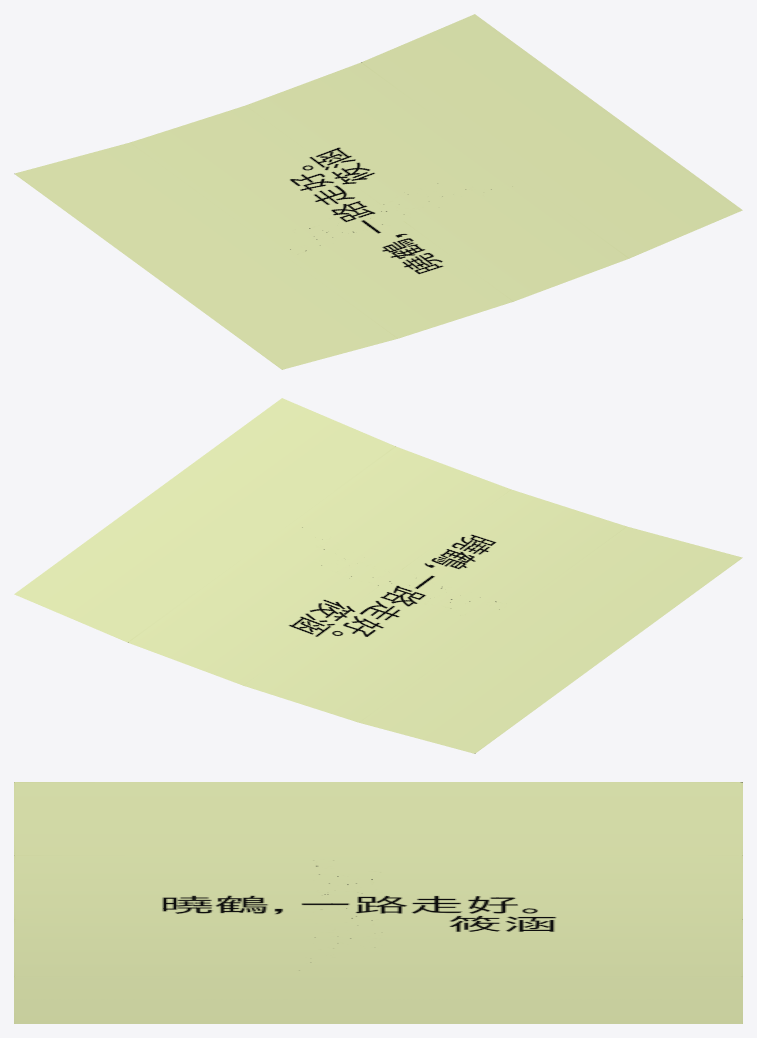
File: 便條紙第3個內容.fbx
3 views of the same model, one above another, from view 1: azimuth 30°, elevation 25°; view 2: azimuth 150°, elevation 25°; view 3: azimuth 270°, elevation 25° (orthographic). The views are drawn at different scales.
Parts seen in each view (by area): view 1: 便條紙內容3; view 2: 便條紙內容3; view 3: 便條紙內容3.
Part boxes in pixels (bbox=[...]): 便條紙內容3: bbox=[14, 14, 742, 369]; 便條紙內容3: bbox=[14, 398, 742, 753]; 便條紙內容3: bbox=[14, 782, 742, 1023].
Bounding box in the file's own units: 2.93 × 0.2866 × 2.95.
Materials: 1 (1 with a texture image).
